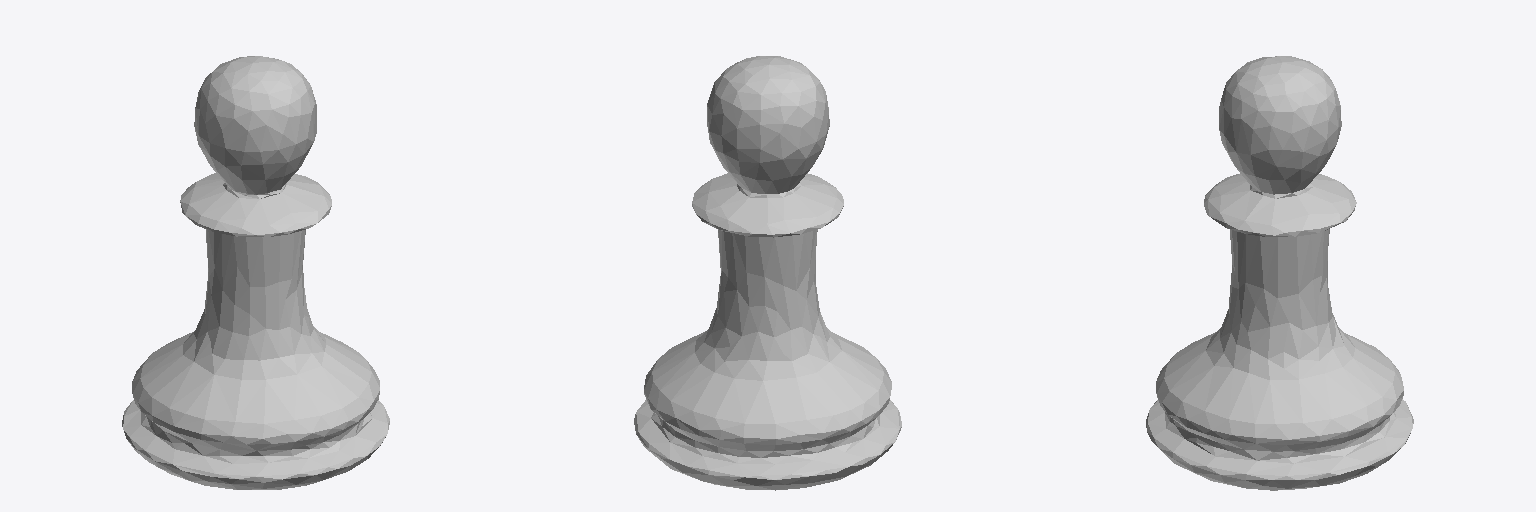
Rendered from PawnNewSimplificat.obj.
The picture shows the model from 3 angles: view 1: azimuth 30°, elevation 25°; view 2: azimuth 150°, elevation 25°; view 3: azimuth 270°, elevation 25°; orthographic projection.
Parts seen in each view (by area): view 1: mesh01.000; view 2: mesh01.000; view 3: mesh01.000.
Boxes of the visible parts, <box> form: mesh01.000: <box>122,56,389,489</box>; mesh01.000: <box>634,56,901,490</box>; mesh01.000: <box>1146,56,1413,490</box>.
Size of the model in its own units: 1.48 by 2.35 by 1.48.